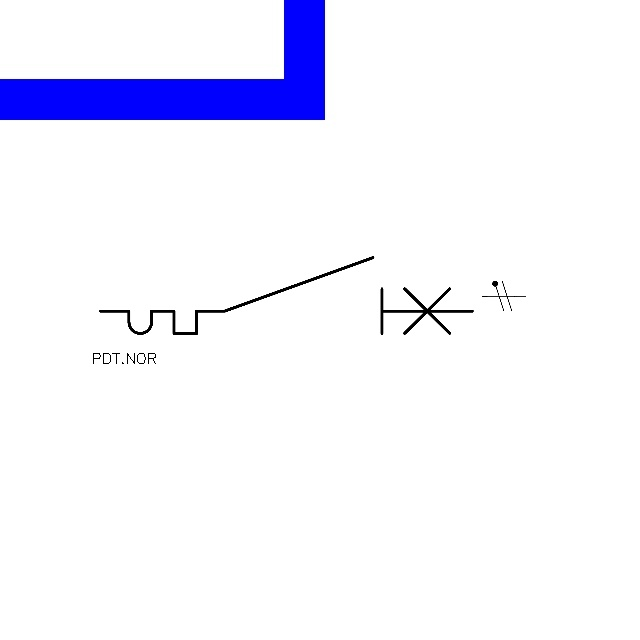interruptor_termomagnetico: (91, 248, 481, 343)
